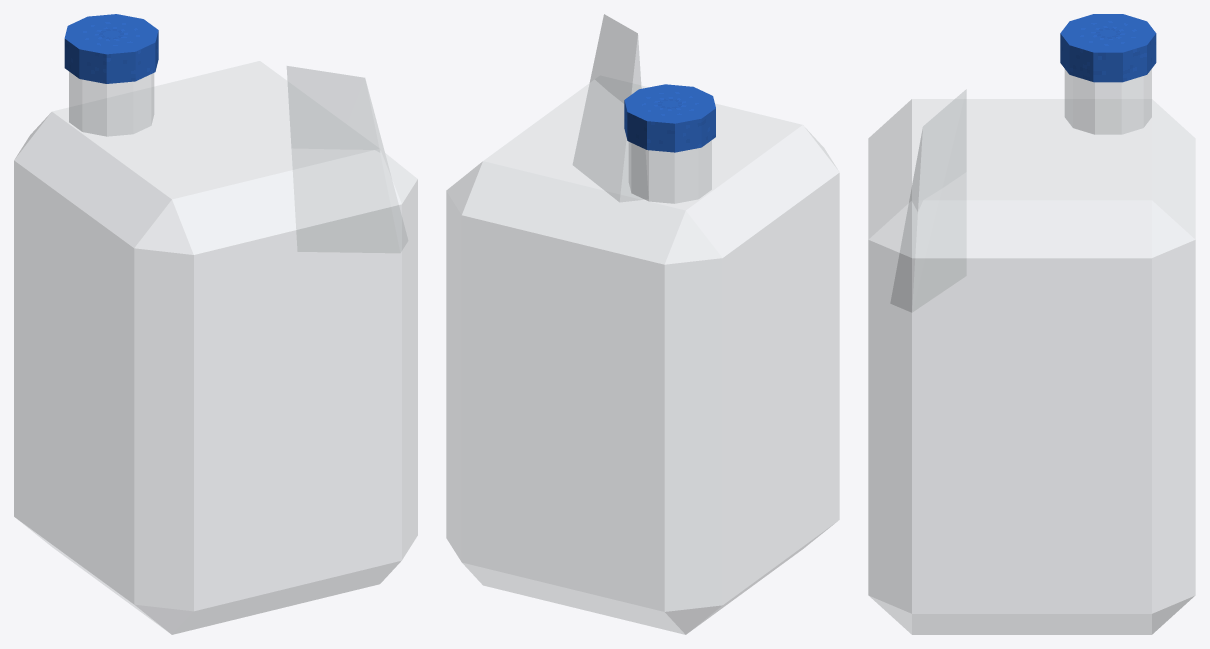
The model's file is jug_plastic.glb.
3 views of the same model, side by side, from view 1: azimuth 30°, elevation 25°; view 2: azimuth 150°, elevation 25°; view 3: azimuth 270°, elevation 25° (orthographic). The views are drawn at different scales.
Visible parts, largest first — view 1: block_body, block_handle, block_cap, block_neck; view 2: block_body, block_handle, block_cap, block_neck; view 3: block_body, block_handle, block_cap, block_neck.
Boxes of the visible parts, x1=… form: block_body: x1=14, y1=61, x2=417, y2=634; block_handle: x1=286, y1=66, x2=407, y2=252; block_cap: x1=64, y1=14, x2=158, y2=83; block_neck: x1=69, y1=71, x2=154, y2=136; block_body: x1=446, y1=76, x2=839, y2=634; block_handle: x1=573, y1=14, x2=643, y2=201; block_cap: x1=624, y1=84, x2=715, y2=152; block_neck: x1=628, y1=140, x2=711, y2=203; block_body: x1=868, y1=99, x2=1195, y2=634; block_handle: x1=891, y1=89, x2=966, y2=311; block_cap: x1=1060, y1=14, x2=1156, y2=82; block_neck: x1=1064, y1=69, x2=1151, y2=134.
Size of the model in its own units: 0.15 by 0.2625 by 0.15.
2 materials, 2 textured.
